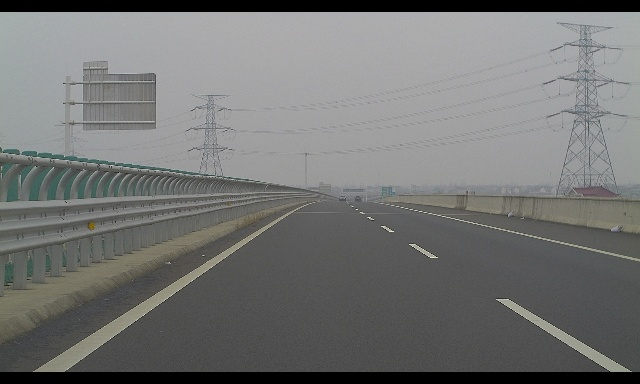car: (339, 195, 347, 201), (355, 196, 362, 202)
